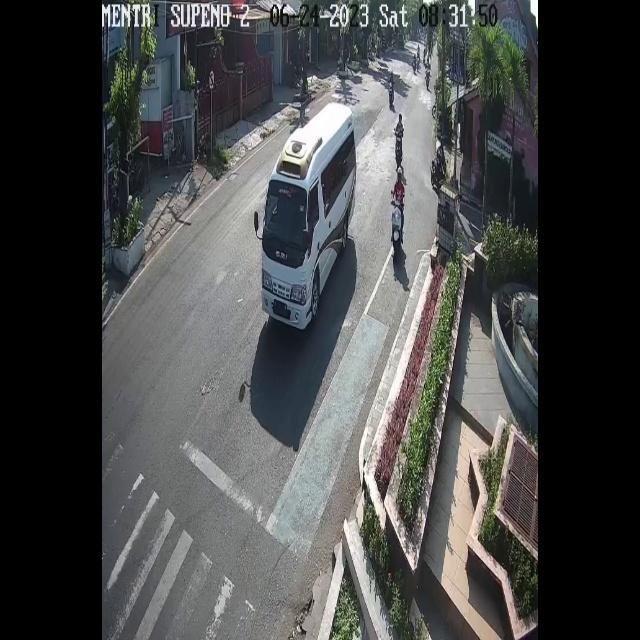bus: (390, 200, 404, 261), (431, 151, 447, 193), (392, 126, 404, 166), (386, 79, 394, 106)
car: (261, 102, 356, 333)
